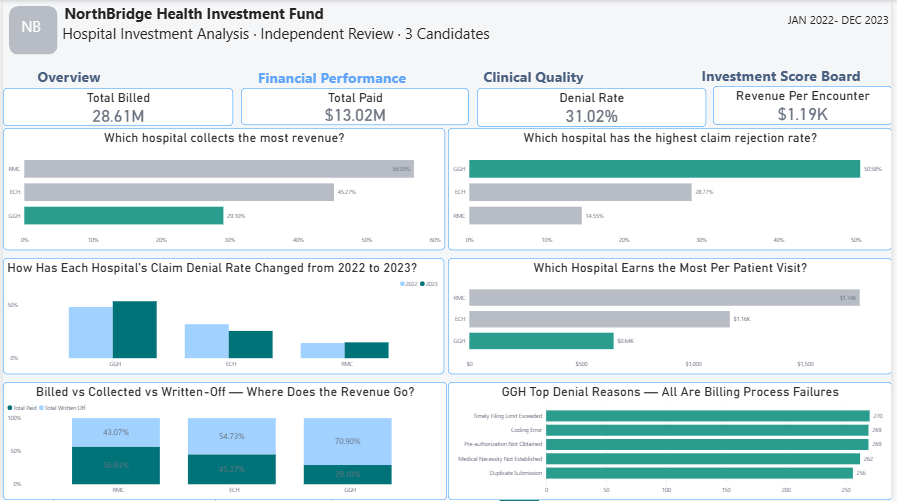

Layout of this report page (visuals, bound fields, positions):
{"tool":"powerbi","page":{"name":"Financial performance","canvas":[1920,1080],"ordinal":1},"visuals":[{"type":"textbox","box":[127.5,0,902.1,54.7],"z":0,"group":"g1"},{"type":"shape","box":[0,6.5,1920.2,118.8],"z":0},{"type":"textbox","box":[122.2,43.2,1030.3,73.4],"z":1000,"group":"g1"},{"type":"card","title":"Total Billed","fields":{"Values":["Measure.Total Billed"]},"box":[0,190.1,496.8,82.1],"z":1000},{"type":"textbox","box":[1298.6,5.8,621.7,110.9],"z":2000,"group":"g1"},{"type":"shape","box":[12,12,105,105],"z":2000},{"type":"card","title":"Total Paid","fields":{"Values":["Measure.Total Paid"]},"box":[514.1,190.1,492.5,79.9],"z":3000},{"type":"group","id":"g1","title":"Group 1","box":[122.2,0,1798.1,116.6],"z":4000},{"type":"card","title":"Denial Rate","fields":{"Values":["Measure.Denial Rate"]},"box":[1023.8,190.1,494.6,84.2],"z":5000},{"type":"shape","box":[0,125.3,1920.2,54],"z":6000},{"type":"actionButton","box":[514.1,142.6,393.1,43.2],"z":7000},{"type":"actionButton","box":[954.7,140.4,382.3,41],"z":8000},{"type":"actionButton","box":[1440.7,133.9,479.5,56.2],"z":9000},{"type":"clusteredBarChart","title":"Which hospital collects the most revenue?","fields":{"Y":["Measure.Collection Rate"],"Category":["combined_hospitals_clean.hospital_code"]},"box":[0,276.5,954.7,263.5],"z":11000},{"type":"card","title":"Revenue Per Encounter","fields":{"Values":["Measure.Revenue per Encounter"]},"box":[1533.6,185.8,386.6,84.2],"z":12000},{"type":"clusteredBarChart","title":"Which hospital has the highest claim rejection rate?","fields":{"Category":["combined_hospitals_clean.hospital_code"],"Y":["Measure.Denial Rate"]},"box":[961.2,276.5,959,263.5],"z":13000},{"type":"clusteredColumnChart","title":"How Has Each Hospital''s Claim Denial Rate Changed from 2022 to 2023?","fields":{"Y":["Measure.Denial Rate"],"Category":["combined_hospitals_clean.hospital_code"],"Series":["combined_hospitals_clean.admission_year"]},"box":[0,557.3,952.6,250.6],"z":14000},{"type":"clusteredBarChart","title":"Which Hospital Earns the Most Per Patient Visit?","fields":{"Category":["combined_hospitals_clean.hospital_code"],"Y":["Measure.Revenue per Encounter"]},"box":[961.2,557.3,959,250.6],"z":15000},{"type":"hundredPercentStackedColumnChart","title":"Billed vs Collected vs Written-Off — Where Does the Revenue Go?","fields":{"Category":["combined_hospitals_clean.hospital_code"],"Y":["Measure.Total Paid","Measure.Total Written Off"]},"box":[0,825.1,959,254.9],"z":16000},{"type":"clusteredBarChart","title":"GGH Top Denial Reasons — All Are Billing Process Failures","fields":{"Category":["combined_hospitals_clean.denial_reason"],"Y":["CountNonNull(combined_hospitals_clean.encounter_id)"]},"box":[961.2,825.1,959,254.9],"z":17000},{"type":"actionButton","box":[17.3,140.4,250.6,41],"z":18000},{"type":"textbox","box":[16.6,27.6,86.5,69.9],"z":19000}]}

Visuals, with their boxes in screenshot pixels (x1, y1, x2, y2), scaled from the page's 1920x1080 canvas onto the 897x501 screenshot:
textbox: box(60, 0, 481, 25)
shape: box(0, 3, 896, 58)
textbox: box(57, 20, 538, 54)
"Total Billed" card: box(0, 88, 232, 126)
textbox: box(607, 3, 896, 54)
shape: box(6, 6, 55, 54)
"Total Paid" card: box(240, 88, 470, 125)
"Group 1" group: box(57, 0, 896, 54)
"Denial Rate" card: box(478, 88, 709, 127)
shape: box(0, 58, 896, 83)
actionButton: box(240, 66, 424, 86)
actionButton: box(446, 65, 625, 84)
actionButton: box(673, 62, 896, 88)
"Which hospital collects the most revenue?" clusteredBarChart: box(0, 128, 446, 250)
"Revenue Per Encounter" card: box(716, 86, 896, 125)
"Which hospital has the highest claim rejection rate?" clusteredBarChart: box(449, 128, 896, 250)
"How Has Each Hospital''s Claim Denial Rate Changed from 2022 to 2023?" clusteredColumnChart: box(0, 259, 445, 375)
"Which Hospital Earns the Most Per Patient Visit?" clusteredBarChart: box(449, 259, 896, 375)
"Billed vs Collected vs Written-Off — Where Does the Revenue Go?" hundredPercentStackedColumnChart: box(0, 383, 448, 500)
"GGH Top Denial Reasons — All Are Billing Process Failures" clusteredBarChart: box(449, 383, 896, 500)
actionButton: box(8, 65, 125, 84)
textbox: box(8, 13, 48, 45)
